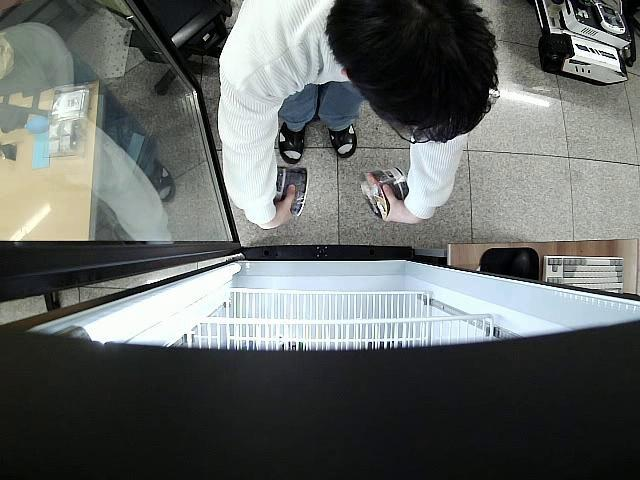07_buldak_L: (360, 168, 410, 218), (270, 167, 309, 214)
